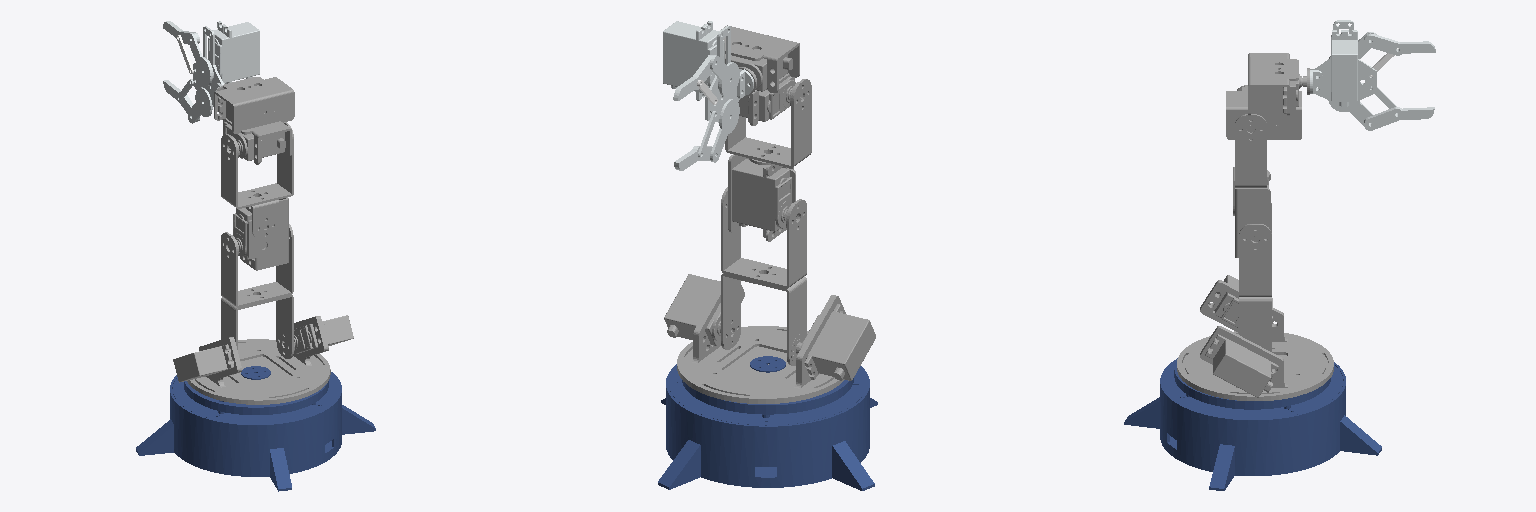
robot.urdf — robot_arm:
<?xml version="1.0" ?>
<!-- =================================================================================== -->
<!-- |    This document was autogenerated by xacro from robot_arm.xacro                | -->
<!-- |    EDITING THIS FILE BY HAND IS NOT RECOMMENDED                                 | -->
<!-- =================================================================================== -->
<robot name="robot_arm">
  <material name="silver">
    <color rgba="0.7 0.7 0.7 1.0"/>
  </material>
  <material name="blue">
    <color rgba="0.3 0.4 0.6 1.0"/>
  </material>
  <transmission name="joint_1_trans">
    <type>transmission_interface/SimpleTransmission</type>
    <joint name="joint_1">
      <hardwareInterface>hardware_interface/PositionJointInterface</hardwareInterface>
    </joint>
    <actuator name="joint_1_actr">
      <hardwareInterface>hardware_interface/PositionJointInterface</hardwareInterface>
      <mechanicalReduction>1</mechanicalReduction>
    </actuator>
  </transmission>
  <transmission name="joint_2_trans">
    <type>transmission_interface/SimpleTransmission</type>
    <joint name="joint_2">
      <hardwareInterface>hardware_interface/PositionJointInterface</hardwareInterface>
    </joint>
    <actuator name="joint_2_actr">
      <hardwareInterface>hardware_interface/PositionJointInterface</hardwareInterface>
      <mechanicalReduction>1</mechanicalReduction>
    </actuator>
  </transmission>
  <transmission name="joint_3_trans">
    <type>transmission_interface/SimpleTransmission</type>
    <joint name="joint_3">
      <hardwareInterface>hardware_interface/PositionJointInterface</hardwareInterface>
    </joint>
    <actuator name="joint_3_actr">
      <hardwareInterface>hardware_interface/PositionJointInterface</hardwareInterface>
      <mechanicalReduction>1</mechanicalReduction>
    </actuator>
  </transmission>
  <transmission name="joint_4_trans">
    <type>transmission_interface/SimpleTransmission</type>
    <joint name="joint_4">
      <hardwareInterface>hardware_interface/PositionJointInterface</hardwareInterface>
    </joint>
    <actuator name="joint_4_actr">
      <hardwareInterface>hardware_interface/PositionJointInterface</hardwareInterface>
      <mechanicalReduction>1</mechanicalReduction>
    </actuator>
  </transmission>
  <transmission name="joint_5_trans">
    <type>transmission_interface/SimpleTransmission</type>
    <joint name="joint_5">
      <hardwareInterface>hardware_interface/PositionJointInterface</hardwareInterface>
    </joint>
    <actuator name="joint_5_actr">
      <hardwareInterface>hardware_interface/PositionJointInterface</hardwareInterface>
      <mechanicalReduction>1</mechanicalReduction>
    </actuator>
  </transmission>
  <!-- gripper -->
  <transmission name="hand_joint1_trans">
    <type>transmission_interface/SimpleTransmission</type>
    <joint name="hand_joint1">
      <hardwareInterface>hardware_interface/PositionJointInterface</hardwareInterface>
    </joint>
    <actuator name="hand_joint1_actr">
      <hardwareInterface>hardware_interface/PositionJointInterface</hardwareInterface>
      <mechanicalReduction>1</mechanicalReduction>
    </actuator>
  </transmission>
  <transmission name="hand_grip_joint1_trans">
    <type>transmission_interface/SimpleTransmission</type>
    <joint name="hand_grip_joint1">
      <hardwareInterface>hardware_interface/PositionJointInterface</hardwareInterface>
    </joint>
    <actuator name="hand_grip_joint1_actr">
      <hardwareInterface>hardware_interface/PositionJointInterface</hardwareInterface>
      <mechanicalReduction>1</mechanicalReduction>
    </actuator>
  </transmission>
  <transmission name="gripper_joint_trans">
    <type>transmission_interface/SimpleTransmission</type>
    <joint name="gripper_joint">
      <hardwareInterface>hardware_interface/PositionJointInterface</hardwareInterface>
    </joint>
    <actuator name="gripper_joint_actr">
      <hardwareInterface>hardware_interface/PositionJointInterface</hardwareInterface>
      <mechanicalReduction>1</mechanicalReduction>
    </actuator>
  </transmission>
  <transmission name="hand_grip_joint2_trans">
    <type>transmission_interface/SimpleTransmission</type>
    <joint name="hand_grip_joint2">
      <hardwareInterface>hardware_interface/PositionJointInterface</hardwareInterface>
    </joint>
    <actuator name="hand_grip_joint2_actr">
      <hardwareInterface>hardware_interface/PositionJointInterface</hardwareInterface>
      <mechanicalReduction>1</mechanicalReduction>
    </actuator>
  </transmission>
  <transmission name="mid_joint_1_trans">
    <type>transmission_interface/SimpleTransmission</type>
    <joint name="mid_joint_1">
      <hardwareInterface>hardware_interface/PositionJointInterface</hardwareInterface>
    </joint>
    <actuator name="mid_joint_1_actr">
      <hardwareInterface>hardware_interface/PositionJointInterface</hardwareInterface>
      <mechanicalReduction>1</mechanicalReduction>
    </actuator>
  </transmission>
  <transmission name="mid_joint_2_trans">
    <type>transmission_interface/SimpleTransmission</type>
    <joint name="mid_joint_2">
      <hardwareInterface>hardware_interface/PositionJointInterface</hardwareInterface>
    </joint>
    <actuator name="mid_joint_2_actr">
      <hardwareInterface>hardware_interface/PositionJointInterface</hardwareInterface>
      <mechanicalReduction>1</mechanicalReduction>
    </actuator>
  </transmission>
  <gazebo>
    <plugin filename="libgazebo_ros_control.so" name="gazebo_ros_control"/>
  </gazebo>
  <gazebo reference="base_link">
    <material>Gazebo/Silver</material>
    <mu1>0.2</mu1>
    <mu2>0.2</mu2>
  </gazebo>
  <gazebo reference="Link1_1">
    <material>Gazebo/Silver</material>
    <mu1>0.2</mu1>
    <mu2>0.2</mu2>
  </gazebo>
  <gazebo reference="Link2_1">
    <material>Gazebo/Silver</material>
    <mu1>0.2</mu1>
    <mu2>0.2</mu2>
  </gazebo>
  <gazebo reference="Link3_1">
    <material>Gazebo/Silver</material>
    <mu1>0.2</mu1>
    <mu2>0.2</mu2>
  </gazebo>
  <gazebo reference="Link4_1">
    <material>Gazebo/Silver</material>
    <mu1>0.2</mu1>
    <mu2>0.2</mu2>
  </gazebo>
  <link name="world"/>
  <joint name="base_fixed_joint" type="fixed">
    <parent link="world"/>
    <child link="base_link"/>
    <origin rpy="0 0 0" xyz="0 0 0.2"/>
  </joint>
  <link name="base_link">
    <inertial>
      <origin rpy="0 0 0" xyz="-0.0019226671084236508 0.03127199959893212 0.003074002176362074"/>
      <mass value="0.1"/>
      <inertia ixx="0.0135" ixy="0.0" ixz="0.0" iyy="0.0135" iyz="0.0" izz="0.05"/>
    </inertial>
    <visual>
      <origin rpy="1.57 0 0" xyz="0 0 0"/>
      <geometry>
        <mesh filename="package://my_arm_description/meshes/base_link.stl" scale="0.001 0.001 0.001"/>
      </geometry>
      <material name="blue"/>
    </visual>
    <collision>
      <origin rpy="1.57 0 0" xyz="0 0 0"/>
      <geometry>
        <mesh filename="package://my_arm_description/meshes/base_link.stl" scale="0.001 0.001 0.001"/>
      </geometry>
    </collision>
  </link>
  <link name="Link1_1">
    <inertial>
      <origin rpy="0 0 0" xyz="-4.991869489348773e-06 0.01780900870871517 0.005735315172792203"/>
      <mass value="0.08948947756149551"/>
      <inertia ixx="0.000574" ixy="-1.2e-05" ixz="-2e-05" iyy="0.002344" iyz="-7.9e-05" izz="0.002106"/>
    </inertial>
    <visual>
      <origin rpy="0 0 0" xyz="0.002688 -0.06295 -0.001684"/>
      <geometry>
        <mesh filename="package://my_arm_description/meshes/Link1_1.stl" scale="0.001 0.001 0.001"/>
      </geometry>
      <material name="silver"/>
    </visual>
    <collision>
      <origin rpy="0 0 0" xyz="0.002688 -0.06295 -0.001684"/>
      <geometry>
        <mesh filename="package://my_arm_description/meshes/Link1_1.stl" scale="0.001 0.001 0.001"/>
      </geometry>
    </collision>
  </link>
  <link name="Link2_1">
    <inertial>
      <origin rpy="0 0 0" xyz="0.025500212363618904 0.050000197846483144 2.9486110807164234e-07"/>
      <mass value="0.01268747558623512"/>
      <inertia ixx="0.000111" ixy="0.0" ixz="-0.0" iyy="7.8e-05" iyz="-0.0" izz="0.000176"/>
    </inertial>
    <visual>
      <origin rpy="0 0 0" xyz="0.028738 -0.084331 -0.001684"/>
      <geometry>
        <mesh filename="package://my_arm_description/meshes/Link2_1.stl" scale="0.001 0.001 0.001"/>
      </geometry>
      <material name="silver"/>
    </visual>
    <collision>
      <origin rpy="0 0 0" xyz="0.028738 -0.084331 -0.001684"/>
      <geometry>
        <mesh filename="package://my_arm_description/meshes/Link2_1.stl" scale="0.001 0.001 0.001"/>
      </geometry>
    </collision>
  </link>
  <link name="Link3_1">
    <inertial>
      <origin rpy="0 0 0" xyz="0.027076002474259824 0.019409440802769573 0.002368883434935072"/>
      <mass value="0.03877413615001566"/>
      <inertia ixx="0.00025" ixy="1e-05" ixz="0.0" iyy="0.000103" iyz="-7e-06" izz="0.00031"/>
    </inertial>
    <visual>
      <origin rpy="0 0 0" xyz="0.028738 -0.184331 -0.001684"/>
      <geometry>
        <mesh filename="package://my_arm_description/meshes/Link3_1.stl" scale="0.001 0.001 0.001"/>
      </geometry>
      <material name="silver"/>
    </visual>
    <collision>
      <origin rpy="0 0 0" xyz="0.028738 -0.184331 -0.001684"/>
      <geometry>
        <mesh filename="package://my_arm_description/meshes/Link3_1.stl" scale="0.001 0.001 0.001"/>
      </geometry>
    </collision>
  </link>
  <link name="Link4_1">
    <inertial>
      <origin rpy="0 0 0" xyz="0.02792782389157162 0.0015768795382742895 -0.009656526599892783"/>
      <mass value="0.030477625056794005"/>
      <inertia ixx="6.9e-05" ixy="-1e-06" ixz="2e-06" iyy="9.7e-05" iyz="0.0" izz="5.9e-05"/>
    </inertial>
    <visual>
      <origin rpy="0 0 0" xyz="0.030288 -0.27563 -0.005184"/>
      <geometry>
        <mesh filename="package://my_arm_description/meshes/Link4_1.stl" scale="0.001 0.001 0.001"/>
      </geometry>
      <material name="silver"/>
    </visual>
    <collision>
      <origin rpy="0 0 0" xyz="0.030288 -0.27563 -0.005184"/>
      <geometry>
        <mesh filename="package://my_arm_description/meshes/Link4_1.stl" scale="0.001 0.001 0.001"/>
      </geometry>
    </collision>
  </link>
  <link name="Link5_1">
    <inertial>
      <origin rpy="0 0 0" xyz="0.02792782389157162 0.0015768795382742895 -0.009656526599892783"/>
      <mass value="0.030477625056794005"/>
      <inertia ixx="6.9e-05" ixy="-1e-06" ixz="2e-06" iyy="9.7e-05" iyz="0.0" izz="5.9e-05"/>
    </inertial>
    <visual>
      <origin rpy="0 0 0" xyz="0.030288 -0.27563 -0.005184"/>
      <geometry>
        <mesh filename="package://my_arm_description/meshes/Link4_1.stl" scale="0.001 0.001 0.001"/>
      </geometry>
      <material name="silver"/>
    </visual>
    <collision>
      <origin rpy="0 0 0" xyz="0.030288 -0.27563 -0.005184"/>
      <geometry>
        <mesh filename="package://my_arm_description/meshes/Link4_1.stl" scale="0.001 0.001 0.001"/>
      </geometry>
    </collision>
  </link>
  <joint name="joint_1" type="revolute">
    <origin rpy="1.57 0 0" xyz="0 0 0.06"/>
    <parent link="base_link"/>
    <child link="Link1_1"/>
    <axis xyz="0 1 0"/>
    <limit effort="5.0" lower="-3.14" upper="3.14" velocity="1.57"/>
    <!-- <dynamics damping="0.5" friction="1.0"/> -->
  </joint>
  <joint name="joint_2" type="revolute">
    <origin rpy="0 0 0" xyz="-0.02605 0.021381 0.0"/>
    <parent link="Link1_1"/>
    <child link="Link2_1"/>
    <axis xyz="-1 0 0"/>
    <limit effort="5.0" lower="-1.57" upper="1.57" velocity="1.57"/>
    <!-- <dynamics damping="0.5" friction="1.0"/> -->
  </joint>
  <joint name="joint_3" type="revolute">
    <origin rpy="0 0 0" xyz="0.0 0.1 0.0"/>
    <parent link="Link2_1"/>
    <child link="Link3_1"/>
    <axis xyz="-1 0 0"/>
    <limit effort="5.0" lower="-2.2" upper="2.2" velocity="1.57"/>
    <!-- <dynamics damping="0.5" friction="1.0"/> -->
  </joint>
  <joint name="joint_4" type="revolute">
    <origin rpy="0 0 0" xyz="-0.00155 0.091299 0.0035"/>
    <parent link="Link3_1"/>
    <child link="Link4_1"/>
    <axis xyz="-1 0 0"/>
    <limit effort="5.0" lower="-3.14" upper="1.2" velocity="1.57"/>
    <!-- <dynamics damping="0.5" friction="1.0"/> -->
  </joint>
  <joint name="joint_5_fixed" type="fixed">
    <origin rpy="0 -1.57 0" xyz="0.02 0.025 -0.045"/>
    <parent link="Link4_1"/>
    <child link="Link5_1"/>
  </joint>
  <!-- gripper -->
  <joint name="joint_5" type="revolute">
    <origin rpy="1.57 0 -1.57" xyz="0 0 0"/>
    <parent link="Link5_1"/>
    <child link="grip_base_link"/>
    <axis xyz="0 0 1"/>
    <limit effort="5.0" lower="-3.14" upper="3.14" velocity="1.57"/>
  </joint>
  <link name="grip_base_link">
    <inertial>
      <origin rpy="0 0 0" xyz="-0.020531 -0.021072 0.02563"/>
      <mass value="0.00367"/>
      <inertia ixx="5.4785E-06" ixy="-5.5445E-08" ixz="-8.0352E-09" iyy="7.0866E-06" iyz="-7.7291E-13" izz="9.4579E-06"/>
    </inertial>
    <visual>
      <origin rpy="0 0 0" xyz="0 0 0"/>
      <geometry>
        <mesh filename="package://my_arm_description/meshes/gripper_meshes/grip_base_link.STL"/>
      </geometry>
      <material name="">
        <color rgba="0.89804 0.92157 0.92941 1"/>
      </material>
    </visual>
    <collision>
      <origin rpy="0 0 0" xyz="0 0 0"/>
      <geometry>
        <mesh filename="package://my_arm_description/meshes/gripper_meshes/grip_base_link.STL"/>
      </geometry>
    </collision>
  </link>
  <link name="hand_link1">
    <inertial>
      <origin rpy="0 0 0" xyz="-0.00523492547000686 0.00492501926066897 -0.00100000000000003"/>
      <mass value="0.000142065726893586"/>
      <inertia ixx="1.22964066308207E-07" ixy="8.46203793647206E-08" ixz="3.23650142493458E-27" iyy="1.33298297071557E-07" iyz="-7.87479068447034E-25" izz="2.55315258533807E-07"/>
    </inertial>
    <visual>
      <origin rpy="0 0 0" xyz="0 0 0"/>
      <geometry>
        <mesh filename="package://my_arm_description/meshes/gripper_meshes/hand_link1.STL"/>
      </geometry>
      <material name="">
        <color rgba="0.898039215686275 0.92156862745098 0.929411764705882 1"/>
      </material>
    </visual>
    <collision>
      <origin rpy="0 0 0" xyz="0 0 0"/>
      <geometry>
        <mesh filename="package://my_arm_description/meshes/gripper_meshes/hand_link1.STL"/>
      </geometry>
    </collision>
  </link>
  <joint name="hand_joint1" type="revolute">
    <origin rpy="1.5708 0 3.1416" xyz="0.015 0.00535 0.02625"/>
    <parent link="grip_base_link"/>
    <child link="hand_link1"/>
    <axis xyz="0 0 1"/>
    <limit effort="5.0" lower="-0.5" upper="0.5" velocity="1.57"/>
    <mimic joint="gripper_joint" multiplier="1"/>
  </joint>
  <link name="hand_grip1">
    <inertial>
      <origin rpy="0 0 0" xyz="0.00594567238082101 0.0203210851839823 -0.00399999969237515"/>
      <mass value="0.000187045062582082"/>
      <inertia ixx="4.0782602368236E-07" ixy="-7.95845983485053E-08" ixz="-1.31395403259131E-14" iyy="3.53476941089525E-08" iyz="-2.03499073074993E-14" izz="4.38185846898205E-07"/>
    </inertial>
    <visual>
      <origin rpy="0 0 0" xyz="0 0 0"/>
      <geometry>
        <mesh filename="package://my_arm_description/meshes/gripper_meshes/hand_grip1.STL"/>
      </geometry>
      <material name="">
        <color rgba="0.898039215686275 0.92156862745098 0.929411764705882 1"/>
      </material>
    </visual>
    <collision>
      <origin rpy="0 0 0" xyz="0 0 0"/>
      <geometry>
        <mesh filename="package://my_arm_description/meshes/gripper_meshes/hand_grip1.STL"/>
      </geometry>
    </collision>
  </link>
  <joint name="hand_grip_joint1" type="revolute">
    <origin rpy="0 0 0" xyz="-0.021122 0.019871 0"/>
    <parent link="hand_link1"/>
    <child link="hand_grip1"/>
    <axis xyz="0 0 1"/>
    <limit effort="5.0" lower="-0.5" upper="0.5" velocity="1.57"/>
    <mimic joint="hand_joint1" multiplier="-1"/>
  </joint>
  <link name="hand_link2">
    <inertial>
      <origin rpy="0 0 0" xyz="0.00521580581542747 0.00494526329837284 -0.00100000000000003"/>
      <mass value="0.000142065726893586"/>
      <inertia ixx="1.2361988419095E-07" ixy="-8.46578754757815E-08" ixz="6.873768146667E-25" iyy="1.32642479188815E-07" iyz="7.7917326290555E-25" izz="2.55315258533807E-07"/>
    </inertial>
    <visual>
      <origin rpy="0 0 0" xyz="0 0 0"/>
      <geometry>
        <mesh filename="package://my_arm_description/meshes/gripper_meshes/hand_link2.STL"/>
      </geometry>
      <material name="">
        <color rgba="0.898039215686275 0.92156862745098 0.929411764705882 1"/>
      </material>
    </visual>
    <collision>
      <origin rpy="0 0 0" xyz="0 0 0"/>
      <geometry>
        <mesh filename="package://my_arm_description/meshes/gripper_meshes/hand_link2.STL"/>
      </geometry>
    </collision>
  </link>
  <joint name="gripper_joint" type="revolute">
    <origin rpy="1.5708 0 3.1416" xyz="-0.013 0.00535 0.02625"/>
    <parent link="grip_base_link"/>
    <child link="hand_link2"/>
    <axis xyz="0 0 -1"/>
    <limit effort="5.0" lower="-0.5" upper="0.5" velocity="1.57"/>
  </joint>
  <link name="hand_grip2">
    <inertial>
      <origin rpy="0 0 0" xyz="-0.00445045993813949 0.020700021082788 -0.00400000030762493"/>
      <mass value="0.000187045056346137"/>
      <inertia ixx="4.17408949625888E-07" ixy="5.16953875644496E-08" ixz="-1.17218822252589E-14" iyy="2.57647082341614E-08" iyz="2.12711331247855E-14" izz="4.38185787066717E-07"/>
    </inertial>
    <visual>
      <origin rpy="0 0 0" xyz="0 0 0"/>
      <geometry>
        <mesh filename="package://my_arm_description/meshes/gripper_meshes/hand_grip2.STL"/>
      </geometry>
      <material name="">
        <color rgba="0.898039215686275 0.92156862745098 0.929411764705882 1"/>
      </material>
    </visual>
    <collision>
      <origin rpy="0 0 0" xyz="0 0 0"/>
      <geometry>
        <mesh filename="package://my_arm_description/meshes/gripper_meshes/hand_grip2.STL"/>
      </geometry>
    </collision>
  </link>
  <joint name="hand_grip_joint2" type="revolute">
    <origin rpy="0 0 0" xyz="0.021045 0.019953 0"/>
    <parent link="hand_link2"/>
    <child link="hand_grip2"/>
    <axis xyz="0 0 -1"/>
    <limit effort="5.0" lower="-0.4" upper="0.4" velocity="1.57"/>
    <mimic joint="gripper_joint" multiplier="-1"/>
  </joint>
  <link name="mid_link1">
    <inertial>
      <origin rpy="0 0 0" xyz="-0.0113240288488907 0.00983698991711786 -0.00100000000000003"/>
      <mass value="0.0000310995574287565"/>
      <inertia ixx="1.1783554463848E-08" ixy="1.26737094661928E-08" ixz="7.03369446242362E-26" iyy="1.53636899711256E-08" iyz="3.46383537128379E-26" izz="2.69399140521153E-08"/>
    </inertial>
    <visual>
      <origin rpy="0 0 0" xyz="0 0 0"/>
      <geometry>
        <mesh filename="package://my_arm_description/meshes/gripper_meshes/mid_link1.STL"/>
      </geometry>
      <material name="">
        <color rgba="0.898039215686275 0.92156862745098 0.929411764705882 1"/>
      </material>
    </visual>
    <collision>
      <origin rpy="0 0 0" xyz="0 0 0"/>
      <geometry>
        <mesh filename="package://my_arm_description/meshes/gripper_meshes/mid_link1.STL"/>
      </geometry>
    </collision>
  </link>
  <joint name="mid_joint_1" type="revolute">
    <origin rpy="1.5708 0 3.1416" xyz="0.005 0.00535 0.04675"/>
    <parent link="grip_base_link"/>
    <child link="mid_link1"/>
    <axis xyz="0 0 -1"/>
    <limit effort="5.0" lower="-0.6" upper="0.6" velocity="1.57"/>
    <mimic joint="gripper_joint" multiplier="-1"/>
  </joint>
  <link name="mid_link2">
    <inertial>
      <origin rpy="0 0 0" xyz="0 0 0"/>
      <mass value="0.00003"/>
      <inertia ixx="0" ixy="0" ixz="0" iyy="0" iyz="0" izz="0"/>
    </inertial>
    <visual>
      <origin rpy="0 0 0" xyz="0 0 0"/>
      <geometry>
        <mesh filename="package://my_arm_description/meshes/gripper_meshes/mid_link2.STL"/>
      </geometry>
      <material name="">
        <color rgba="1 1 1 1"/>
      </material>
    </visual>
    <collision>
      <origin rpy="0 0 0" xyz="0 0 0"/>
      <geometry>
        <mesh filename="package://my_arm_description/meshes/gripper_meshes/mid_link2.STL"/>
      </geometry>
    </collision>
  </link>
  <joint name="mid_joint_2" type="revolute">
    <origin rpy="1.5708 0 3.1416" xyz="-0.005 0.00535 0.04675"/>
    <parent link="grip_base_link"/>
    <child link="mid_link2"/>
    <axis xyz="0 0 -1"/>
    <limit effort="5.0" lower="-0.6" upper="0.6" velocity="1.57"/>
    <mimic joint="gripper_joint" multiplier="1"/>
  </joint>
  <!-- TCP -->
  <link name="tool_link"/>
  <joint name="tool_joint" type="fixed">
    <origin rpy="0 0 0" xyz="0 0 0.1"/>
    <parent link="grip_base_link"/>
    <child link="tool_link"/>
  </joint>
</robot>

--- Render facts (derived) ---
3 views of the same robot in one strip: view 1: azimuth 30°, elevation 25°; view 2: azimuth 150°, elevation 25°; view 3: azimuth 270°, elevation 25° (orthographic).
Robot: robot_arm — 15 links, 14 joints (11 revolute, 3 fixed); root link world; default pose: all joints at 0.
Links seen in each view (by area): view 1: base_link, Link1_1, Link3_1, Link2_1, Link5_1, grip_base_link, Link4_1, hand_link2, hand_link1; view 2: base_link, Link1_1, Link3_1, Link2_1, grip_base_link, Link5_1, Link4_1, hand_link1, hand_link2, hand_grip2; view 3: base_link, Link1_1, Link3_1, Link2_1, grip_base_link, Link5_1, Link4_1, hand_grip1, hand_grip2.
Boxes of the visible links, <box> form: base_link: <box>136,366,375,491</box>; Link1_1: <box>173,315,353,404</box>; Link3_1: <box>221,122,293,270</box>; Link2_1: <box>221,224,293,358</box>; Link5_1: <box>214,77,294,133</box>; grip_base_link: <box>193,21,259,106</box>; Link4_1: <box>223,118,291,164</box>; hand_link2: <box>187,33,212,86</box>; hand_link1: <box>188,87,212,123</box>; base_link: <box>658,356,877,490</box>; Link1_1: <box>664,274,875,403</box>; Link3_1: <box>725,79,811,241</box>; Link2_1: <box>721,187,806,365</box>; grip_base_link: <box>663,21,753,122</box>; Link5_1: <box>721,25,799,95</box>; Link4_1: <box>738,73,802,125</box>; hand_link1: <box>710,99,739,162</box>; hand_link2: <box>710,55,739,97</box>; hand_grip2: <box>673,55,713,100</box>; base_link: <box>1124,358,1381,490</box>; Link1_1: <box>1177,275,1333,400</box>; Link3_1: <box>1233,85,1270,257</box>; Link2_1: <box>1239,203,1271,351</box>; grip_base_link: <box>1310,20,1376,106</box>; Link5_1: <box>1248,53,1309,115</box>; Link4_1: <box>1226,86,1301,139</box>; hand_grip1: <box>1364,107,1434,130</box>; hand_grip2: <box>1364,33,1435,55</box>.
Size in the robot's own frame: 0.1969 by 0.2378 by 0.3478 metres.
13 mesh visuals loaded from 12 distinct referenced files (12 binary STL).